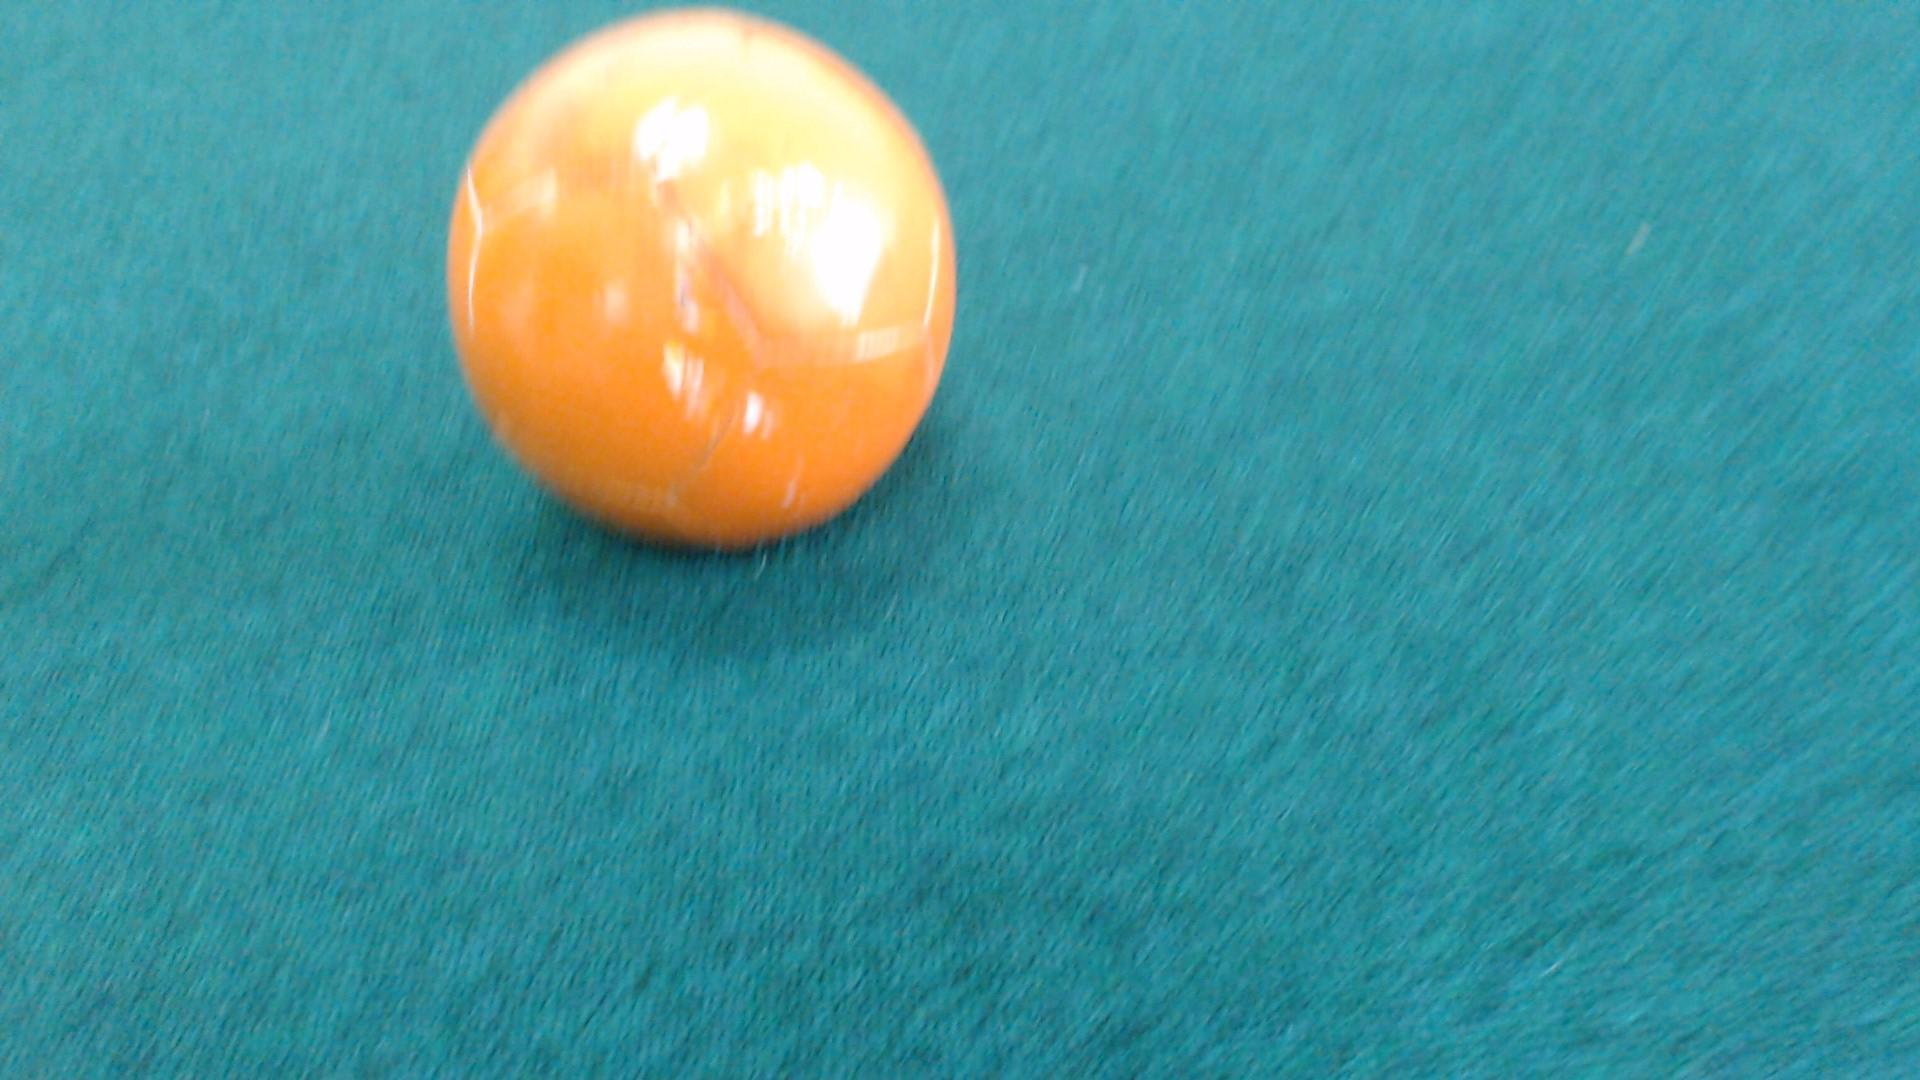bola: (421, 0, 1014, 603)
